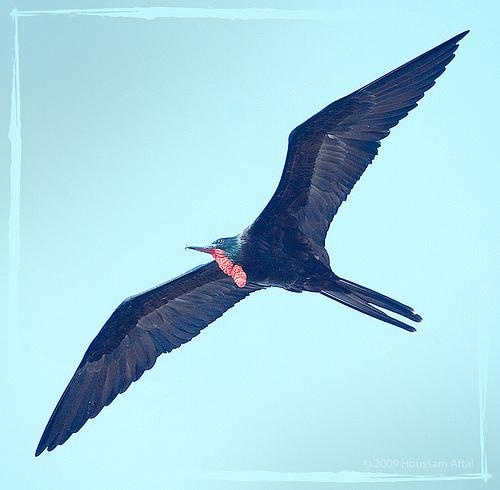bird: (31, 29, 469, 456)
